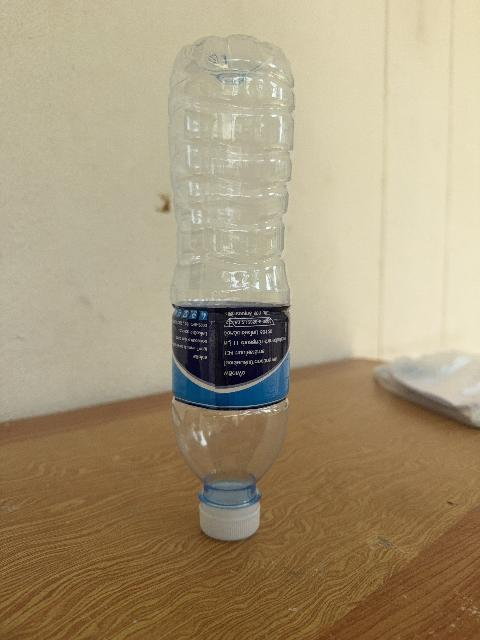bottle: (168, 35, 292, 539)
